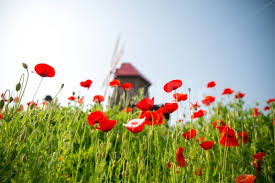flower: (13, 74, 274, 159)
